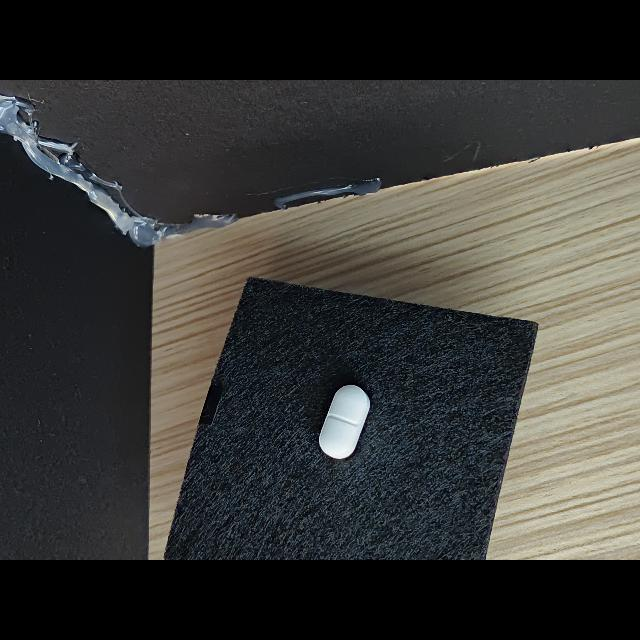Intact Pill: (319, 385, 370, 459)
